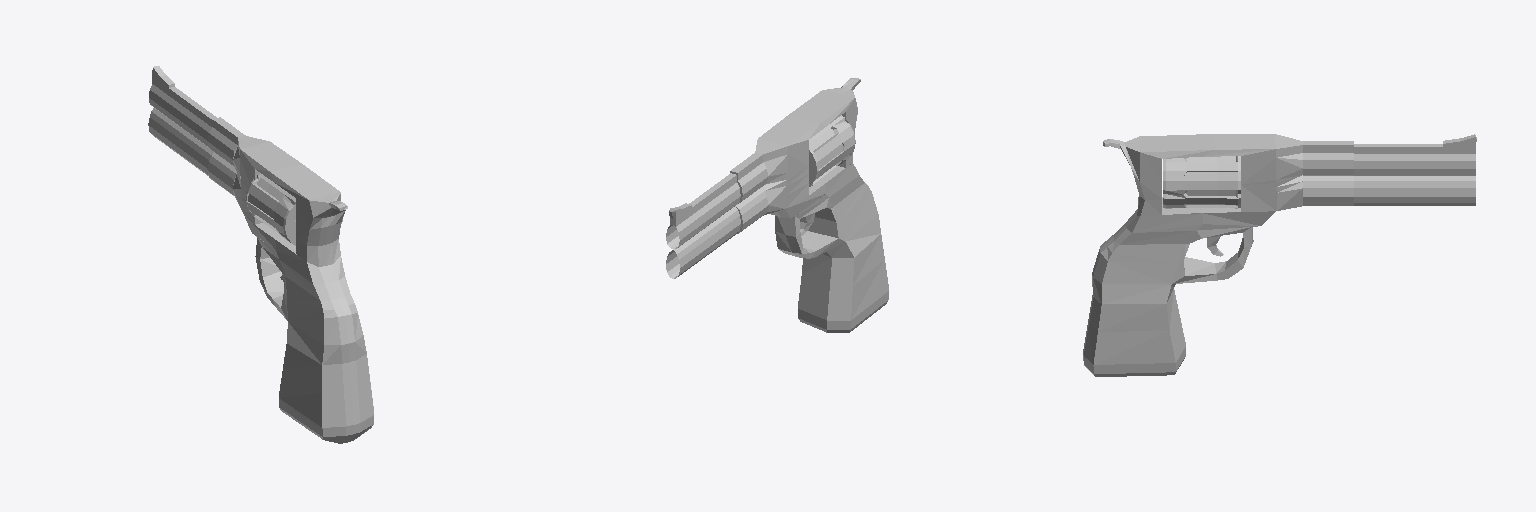
The model's file is Revolver.obj.
3 renders of one model, left to right at view 1: azimuth 30°, elevation 25°; view 2: azimuth 150°, elevation 25°; view 3: azimuth 270°, elevation 25°, orthographic.
Parts seen in each view (by area): view 1: polySurface33 polySurface35, polySurface34 polySurface33; view 2: polySurface33 polySurface35, polySurface34 polySurface33; view 3: polySurface33 polySurface35, polySurface34 polySurface33.
Boxes of the visible parts, x1,y1,x2,y2 form: polySurface33 polySurface35: [148, 66, 373, 443]; polySurface34 polySurface33: [246, 173, 343, 245]; polySurface33 polySurface35: [666, 78, 888, 332]; polySurface34 polySurface33: [809, 115, 855, 186]; polySurface33 polySurface35: [1083, 134, 1476, 376]; polySurface34 polySurface33: [1163, 156, 1240, 208].
Bounding box in the file's own units: 3.63 × 13.6 × 20.42.